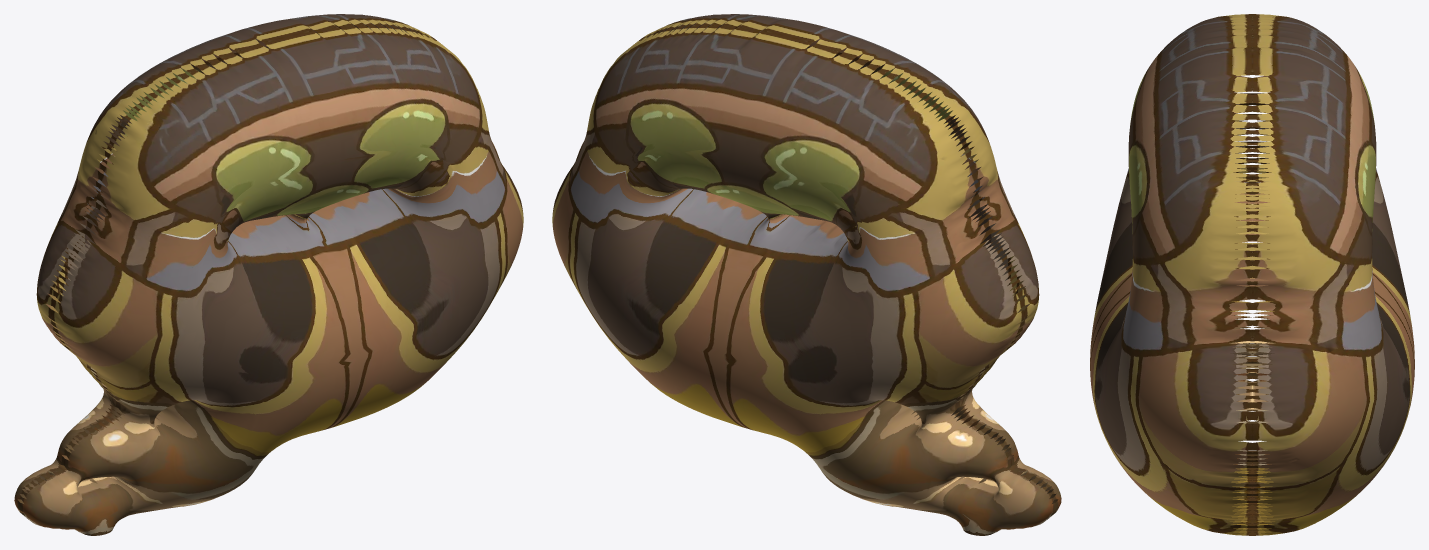
Rendered from spill_chamber.glb.
The picture shows the model from 3 angles, left to right: view 1: azimuth 30°, elevation 25°; view 2: azimuth 150°, elevation 25°; view 3: azimuth 270°, elevation 25°; orthographic projection. The views are drawn at different scales.
Visible parts, largest first — view 1: spill_chamber; view 2: spill_chamber; view 3: spill_chamber.
Boxes of the visible parts, x1=… form: spill_chamber: x1=14, y1=14, x2=523, y2=535; spill_chamber: x1=552, y1=14, x2=1061, y2=535; spill_chamber: x1=1090, y1=14, x2=1414, y2=535.
Bounding box in the file's own units: 0.989 × 0.8398 × 0.4982.
1 material, 1 textured.
